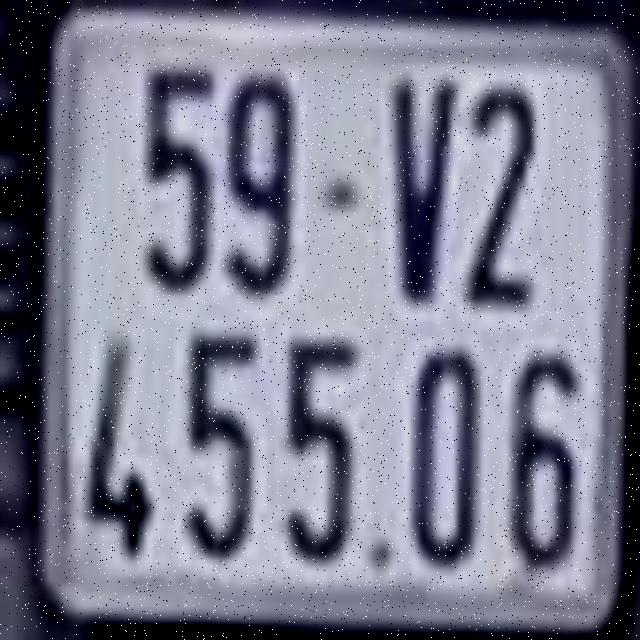0: (409, 344, 481, 568)
2: (467, 81, 536, 311)
4: (86, 337, 153, 558)
5: (284, 334, 358, 563), (142, 64, 216, 291), (186, 330, 258, 560)
6: (508, 350, 581, 568)
9: (224, 70, 296, 295)
V: (384, 73, 458, 304)
